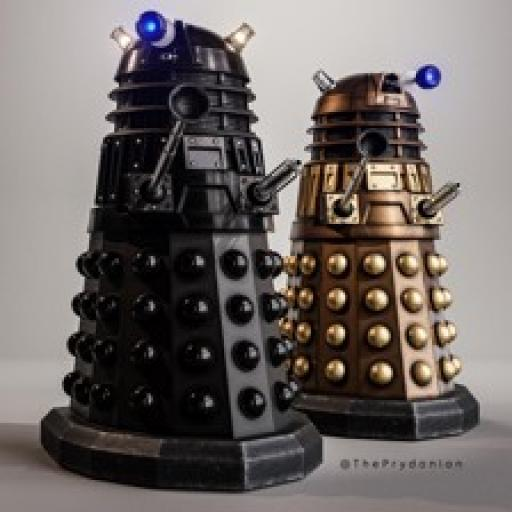dalek: (33, 12, 323, 498), (283, 63, 483, 442)
